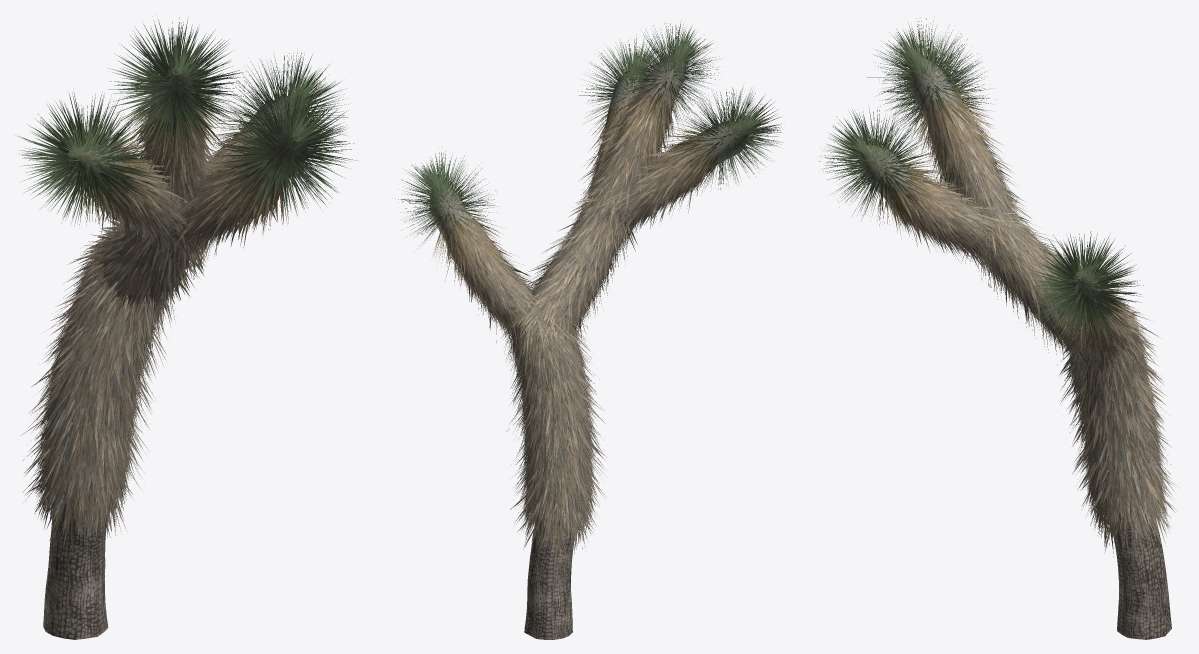
The model's file is joshua_b.glb.
3 views of the same model, side by side, from view 1: azimuth 30°, elevation 25°; view 2: azimuth 150°, elevation 25°; view 3: azimuth 270°, elevation 25° (orthographic). The views are drawn at different scales.
Visible parts, largest first — view 1: joshua_b; view 2: joshua_b; view 3: joshua_b.
Boxes of the visible parts, x1,y1,x2,y2 form: joshua_b: (18, 16, 357, 639); joshua_b: (395, 21, 783, 639); joshua_b: (818, 18, 1177, 639).
Size of the model in its own units: 3.07 by 5.04 by 2.84.
Materials: 3 (3 with a texture image).
